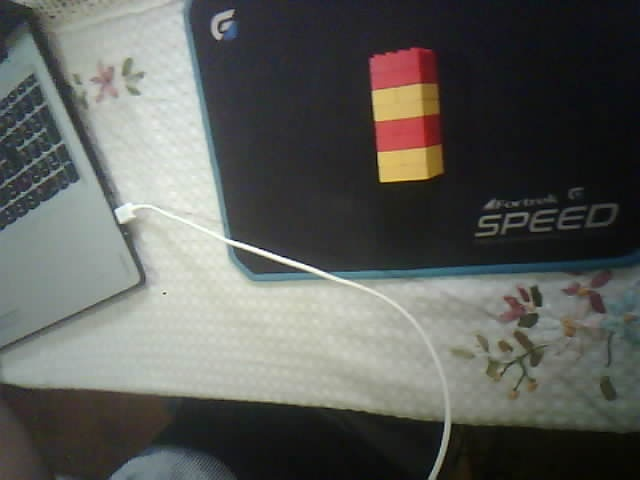lego: (367, 46, 446, 184)
